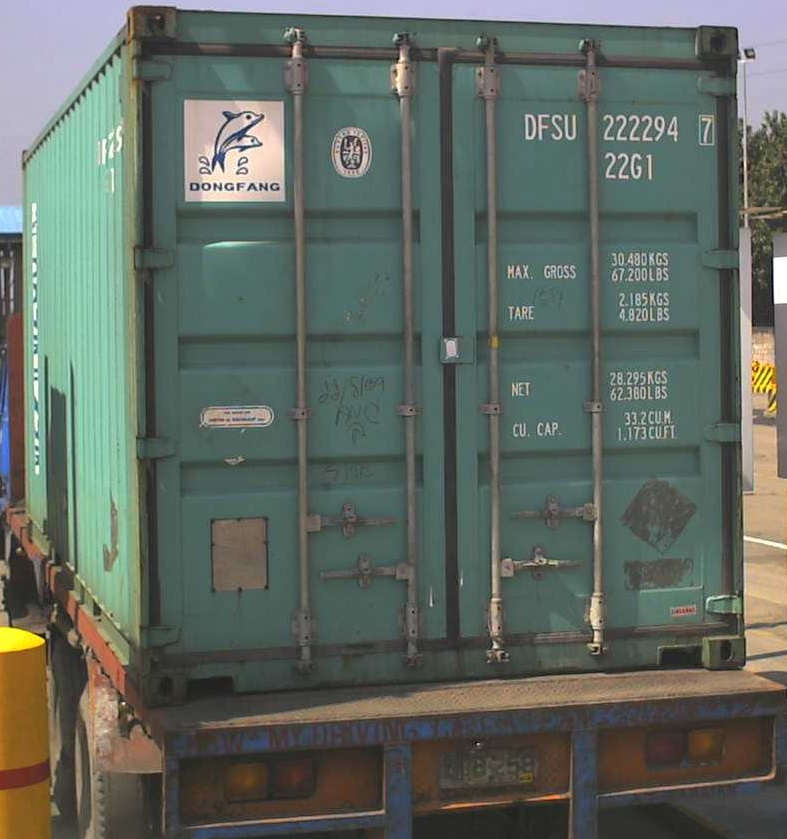container_door: (129, 10, 750, 721)
